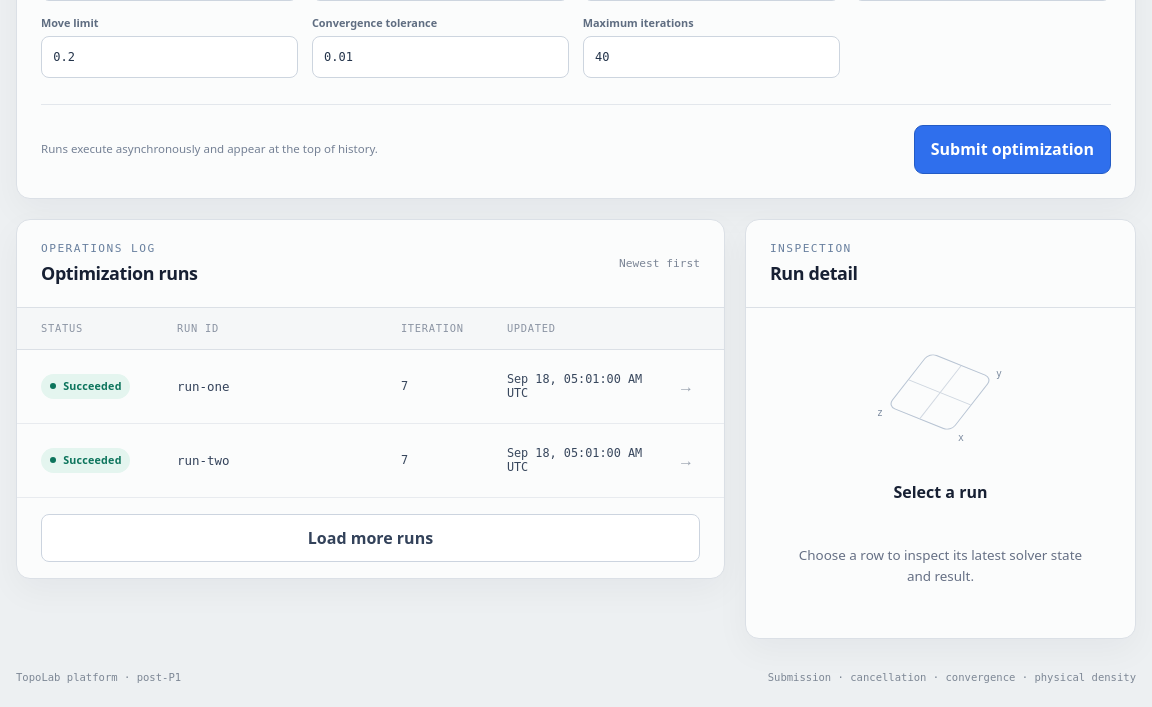
Test: App › appends the next cursor page
This screenshot has width=1152, height=707.
(page scrolled)
Check: the text "run-one" is shown, box [177,379,230,394]
Click the button "Load more runs" at (370,538), box [41,514,700,562]
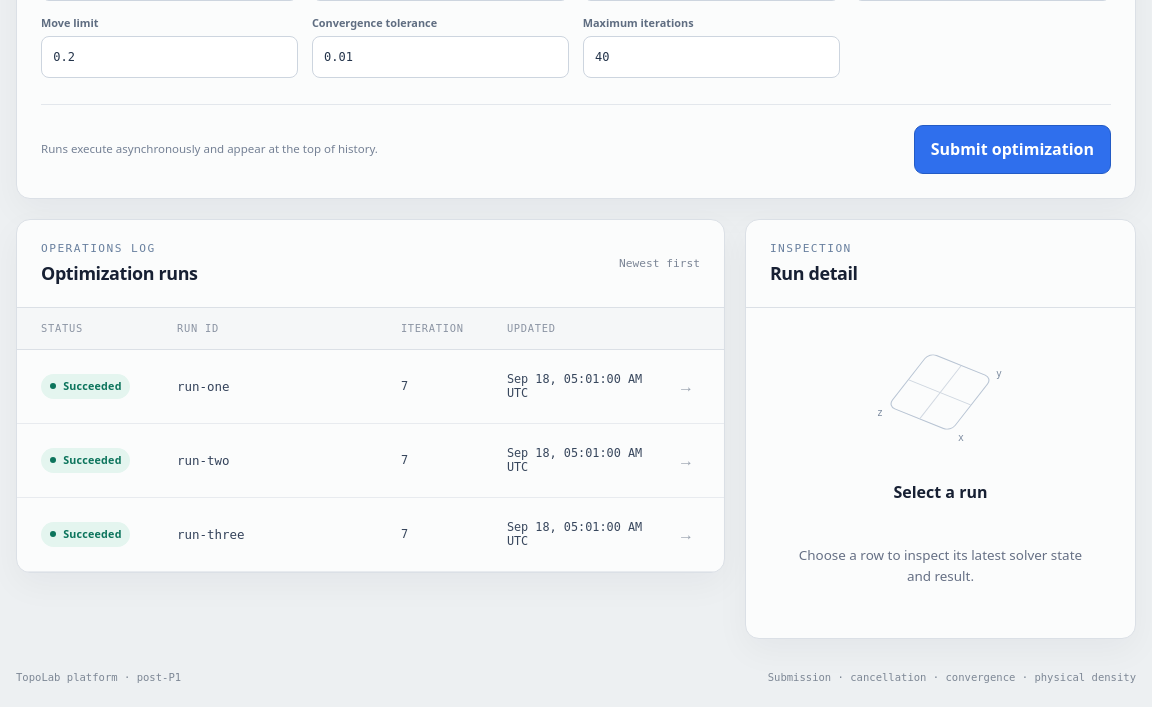
Check: the text "run-three" is shown, box [177,527,245,542]
Check: the button "Load more runs" is gone
